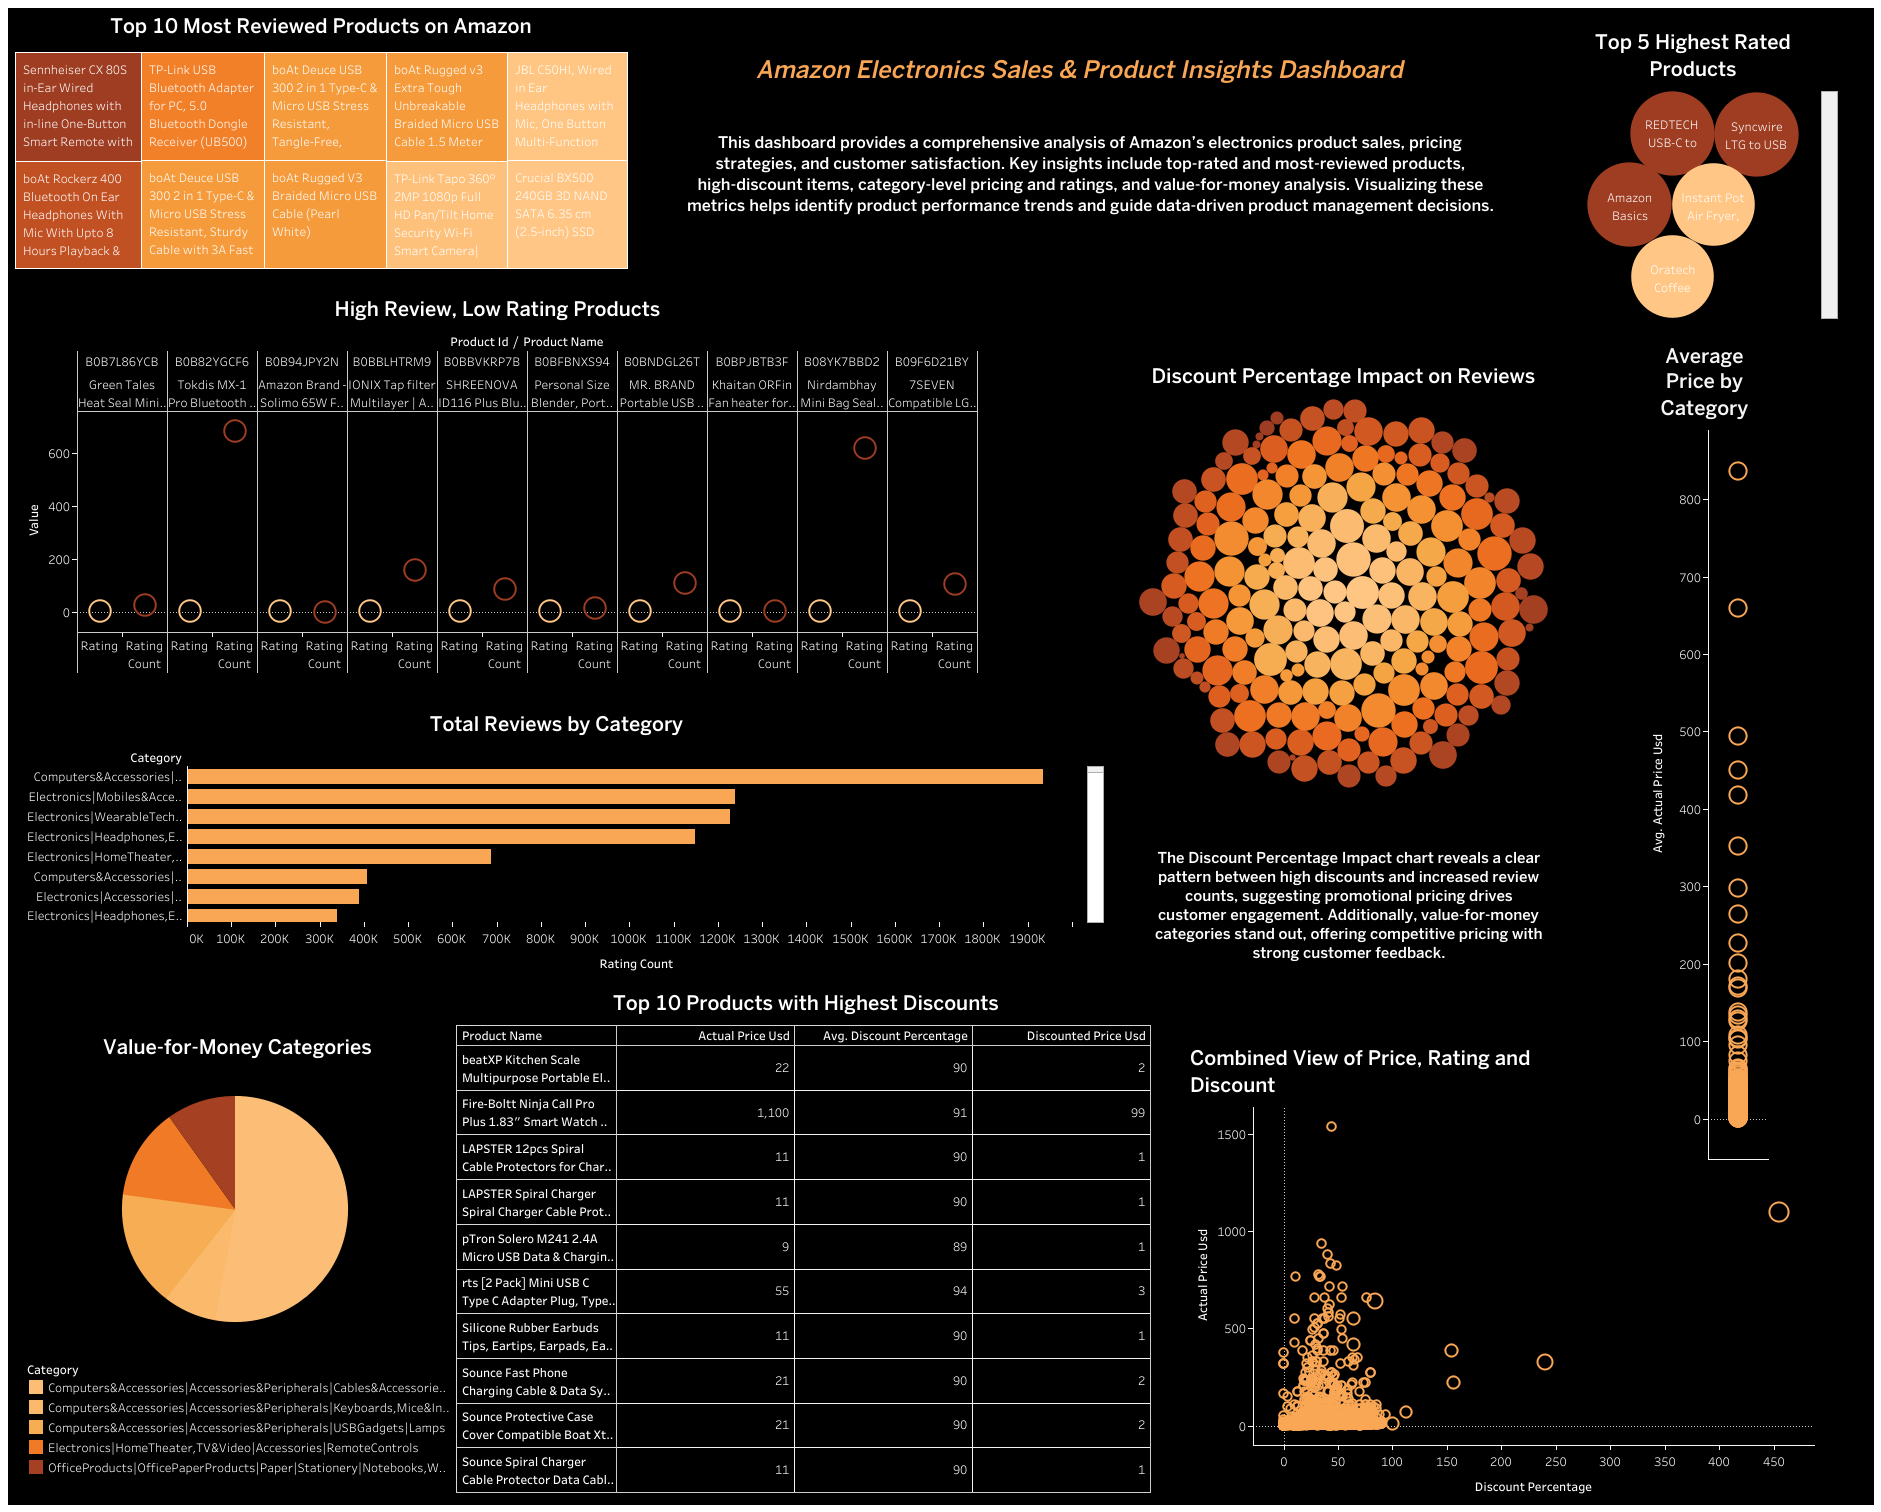

The page's visual inventory and layout, read from the dashboard file:
{"tool":"tableau","page":{"name":"Dashboard 1","canvas":[1000,1000],"units":"permille","ordinal":0},"visuals":[{"type":"worksheet","title":"review1","mark":"Automatic","box":[5.9,5.3,329.2,175.2]},{"type":"text","box":[347.5,11.2,455.5,69.4]},{"type":"worksheet","title":"rating1","mark":"Circle","box":[831.9,15.9,144.5,194.3]},{"type":"text","box":[358.7,56.2,441.3,117.7]},{"type":"worksheet","title":"rating2","mark":"Shape","cols":["product_id","product_name"],"box":[8.8,191,568.7,253.8]},{"type":"worksheet","title":"price1","mark":"Shape","rows":["actual_price_usd"],"box":[872,223.4,99.7,542.6]},{"type":"worksheet","title":"discount1","mark":"Circle","box":[580.5,235.3,266.7,285.5]},{"type":"worksheet","title":"review2","mark":"Automatic","rows":["category"],"cols":["rating_count"],"box":[14.2,465.3,572.3,181.8]},{"type":"text","box":[611.2,530.7,211.2,134.8]},{"type":"worksheet","title":"discount2","mark":"Automatic","rows":["product_name"],"box":[242.2,649.7,369.5,337.1]},{"type":"worksheet","title":"valueformoney","mark":"Pie","box":[25.4,680.1,198.8,211.5]},{"type":"worksheet","title":"combined","mark":"Automatic","rows":["actual_price_usd"],"cols":["discount_percentage"],"box":[630.1,687.4,333.9,305.4]}]}

Visuals, with their boxes on the dashboard's canvas, which has no fixed pixel size, in thousandths of its width and height (x1, y1, x2, y2). These are canvas units, not pixel positions in the 1881x1512 screenshot, which may show the page scaled, cropped or inside an application window:
"review1" worksheet: <bbox>6, 5, 335, 180</bbox>
text: <bbox>348, 11, 803, 81</bbox>
"rating1" worksheet (Circle marks): <bbox>832, 16, 976, 210</bbox>
text: <bbox>359, 56, 800, 174</bbox>
"rating2" worksheet (Shape marks): <bbox>9, 191, 578, 445</bbox>
"price1" worksheet (Shape marks): <bbox>872, 223, 972, 766</bbox>
"discount1" worksheet (Circle marks): <bbox>580, 235, 847, 521</bbox>
"review2" worksheet: <bbox>14, 465, 586, 647</bbox>
text: <bbox>611, 531, 822, 666</bbox>
"discount2" worksheet: <bbox>242, 650, 612, 987</bbox>
"valueformoney" worksheet (Pie marks): <bbox>25, 680, 224, 892</bbox>
"combined" worksheet: <bbox>630, 687, 964, 993</bbox>
